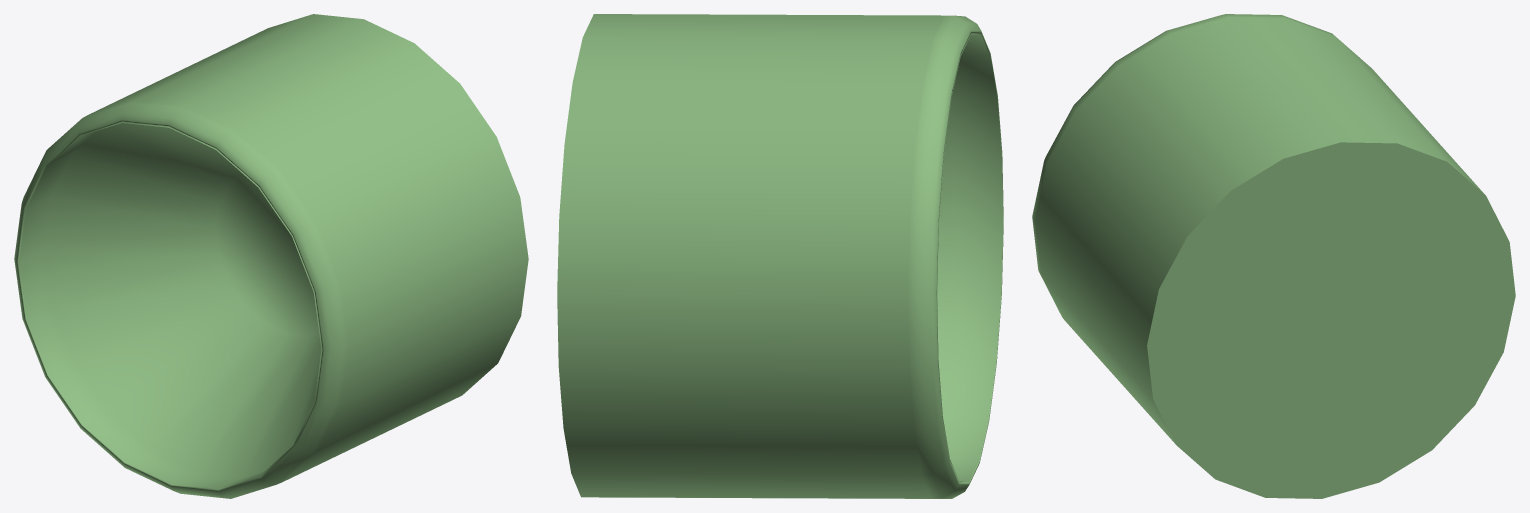
Rendered from BL5_8shapes_Round_Classic_Metal.001 3.glb.
3 views of the same model, side by side, from view 1: azimuth 30°, elevation 25°; view 2: azimuth 150°, elevation 25°; view 3: azimuth 270°, elevation 25° (orthographic). The views are drawn at different scales.
Visible parts, largest first — view 1: BL5_8shapes_Round_Classic_Metal.001; view 2: BL5_8shapes_Round_Classic_Metal.001; view 3: BL5_8shapes_Round_Classic_Metal.001.
Part boxes in pixels (left/top/right/bottom): BL5_8shapes_Round_Classic_Metal.001: left=14, top=14, right=528, bottom=498; BL5_8shapes_Round_Classic_Metal.001: left=557, top=14, right=1003, bottom=498; BL5_8shapes_Round_Classic_Metal.001: left=1032, top=14, right=1515, bottom=498.
Bounding box in the file's own units: 0.553 × 0.5317 × 0.6237.
